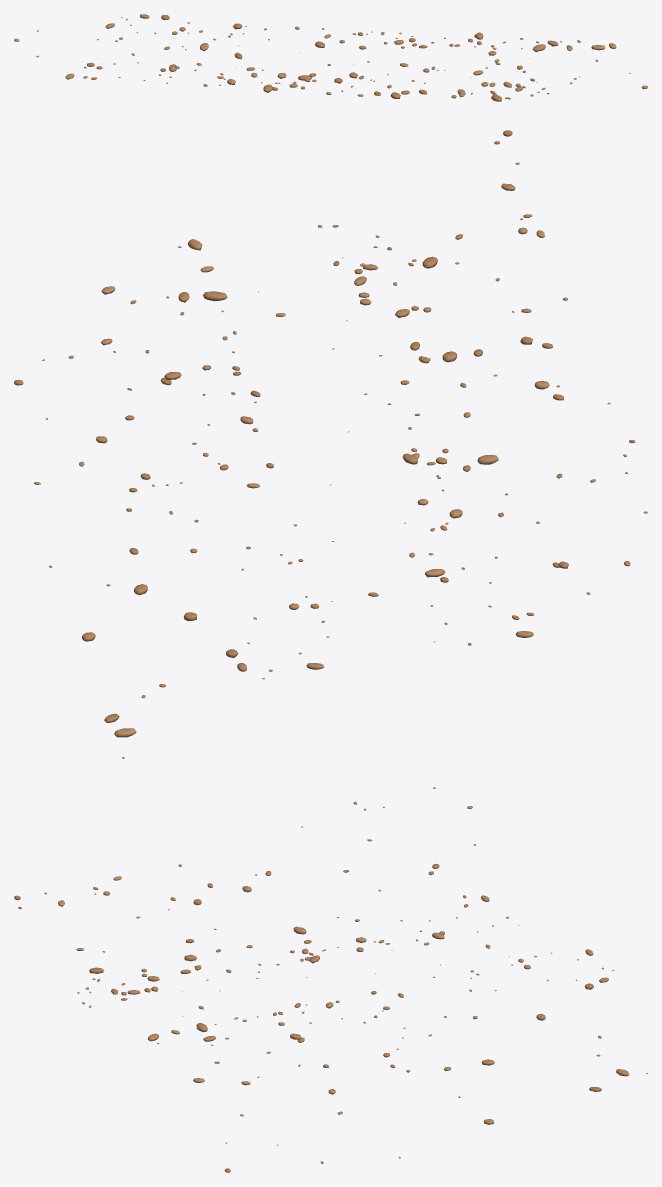
Rendered from terrain-102.glb.
The picture shows the model from 3 angles, top to bottom: view 1: azimuth 30°, elevation 25°; view 2: azimuth 150°, elevation 25°; view 3: azimuth 270°, elevation 25°; orthographic projection. The views are drawn at different scales.
Visible parts, largest first — view 1: terrain-102; view 2: terrain-102; view 3: terrain-102.
Part boxes in pixels (left/top/right/bottom): terrain-102: left=14, top=14, right=647, bottom=101; terrain-102: left=14, top=130, right=647, bottom=758; terrain-102: left=14, top=787, right=647, bottom=1172.
Bounding box in the file's own units: 68.79 × 23.66 × 68.19.
